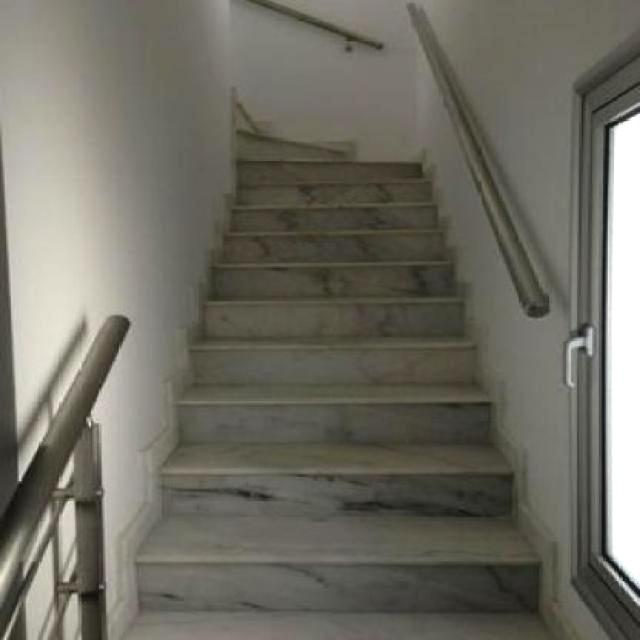stair: (84, 0, 563, 638)
